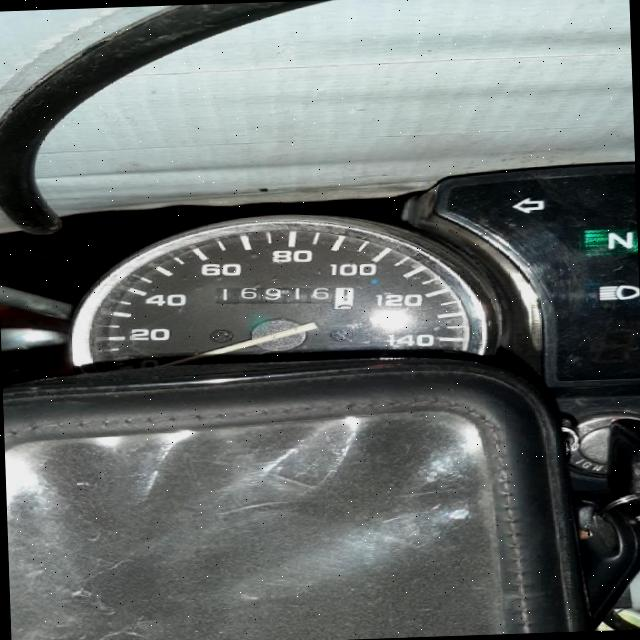odometer: (213, 282, 354, 314)
